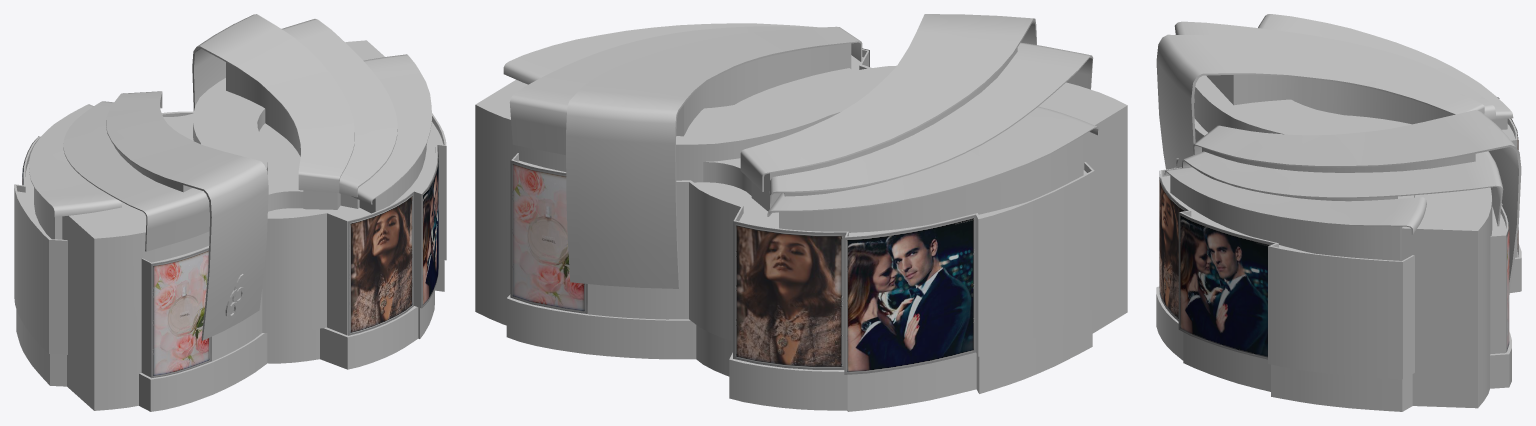
Rendered from store_053_H.FBX.
3 renders of one model, left to right at view 1: azimuth 30°, elevation 25°; view 2: azimuth 150°, elevation 25°; view 3: azimuth 270°, elevation 25°, orthographic. The views are drawn at different scales.
Visible parts, largest first — view 1: store_053_H, store_053_H_1, store_053_H_2; view 2: store_053_H, store_053_H_1, store_053_H_2; view 3: store_053_H, store_053_H_2, store_053_H_1.
Part boxes in pixels (left/top/right/bottom): store_053_H: left=14, top=14, right=446, bottom=411; store_053_H_1: left=151, top=192, right=413, bottom=378; store_053_H_2: left=22, top=136, right=438, bottom=307; store_053_H: left=475, top=14, right=1127, bottom=411; store_053_H_1: left=510, top=48, right=869, bottom=369; store_053_H_2: left=844, top=215, right=975, bottom=374; store_053_H: left=1156, top=14, right=1521, bottom=411; store_053_H_2: left=1178, top=97, right=1499, bottom=359; store_053_H_1: left=1159, top=118, right=1518, bottom=351.
Bounding box in the file's own units: 95.08 × 44.84 × 68.75.
